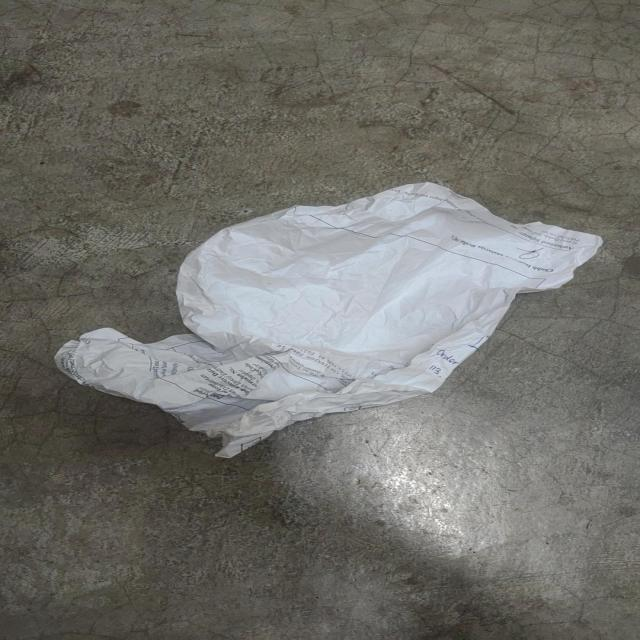paper: (54, 182, 604, 459)
